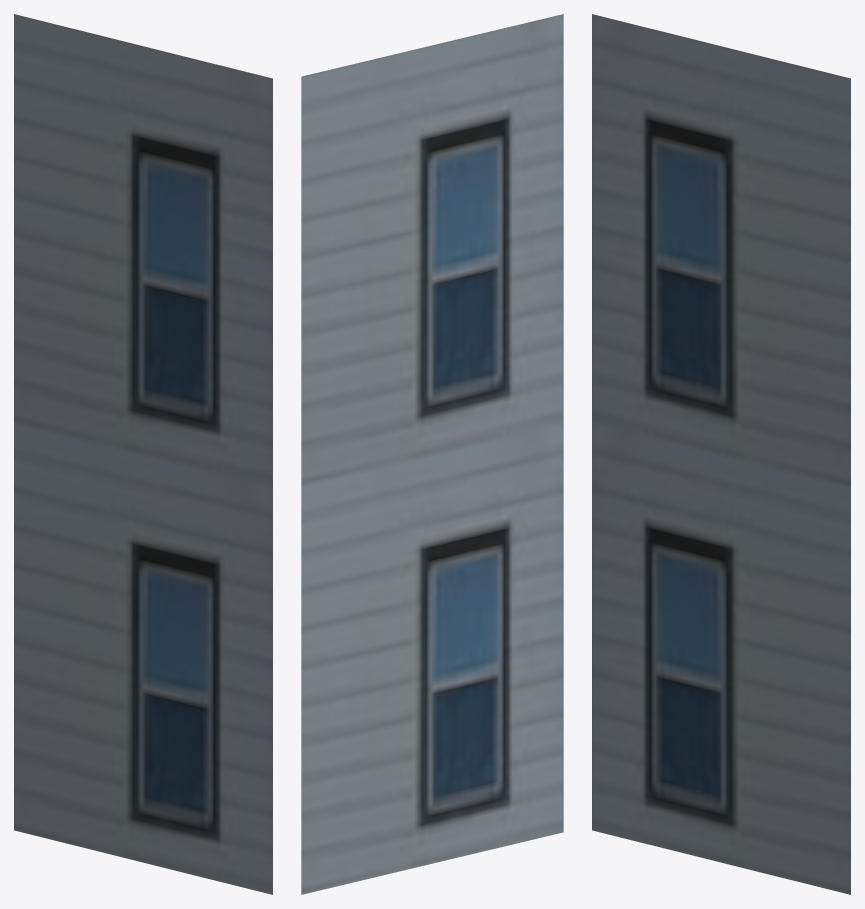
The model's file is ResTex__4473.fbx.
The picture shows the model from 3 angles, left to right: view 1: azimuth 90°, elevation 25°; view 2: azimuth 150°, elevation 25°; view 3: azimuth 270°, elevation 25°; orthographic projection.
Parts seen in each view (by area): view 1: CityEngineMaterial_18_m; view 2: CityEngineMaterial_18_m; view 3: CityEngineMaterial_18_m.
Part boxes in pixels (x1,y1,x2,y2): CityEngineMaterial_18_m: (14, 14, 272, 894); CityEngineMaterial_18_m: (301, 14, 563, 894); CityEngineMaterial_18_m: (592, 14, 850, 894).
Bounding box in the file's own units: 1.02 × 6 × 1.72.
Materials: 1 (1 with a texture image).
